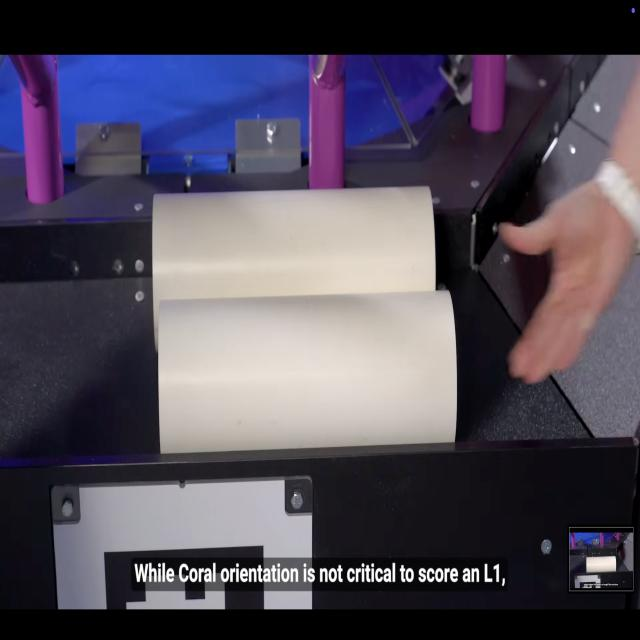coral: (149, 185, 441, 351), (154, 293, 459, 451)
